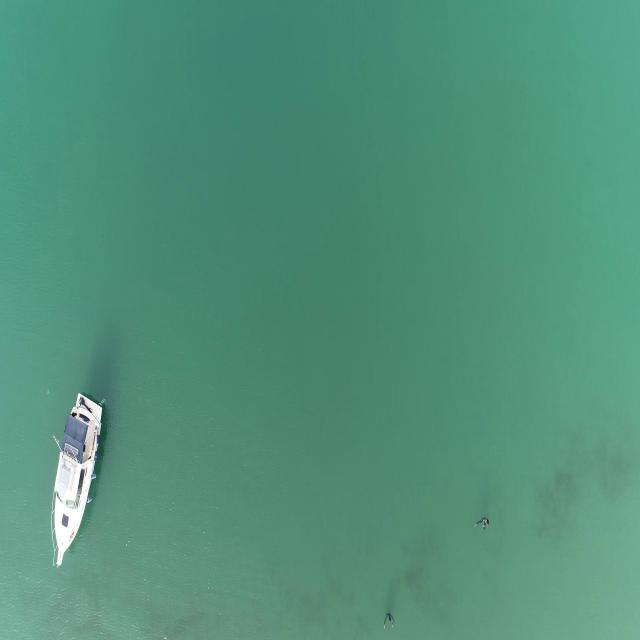boat: (47, 392, 108, 568)
person: (475, 512, 491, 534), (382, 613, 395, 631)
